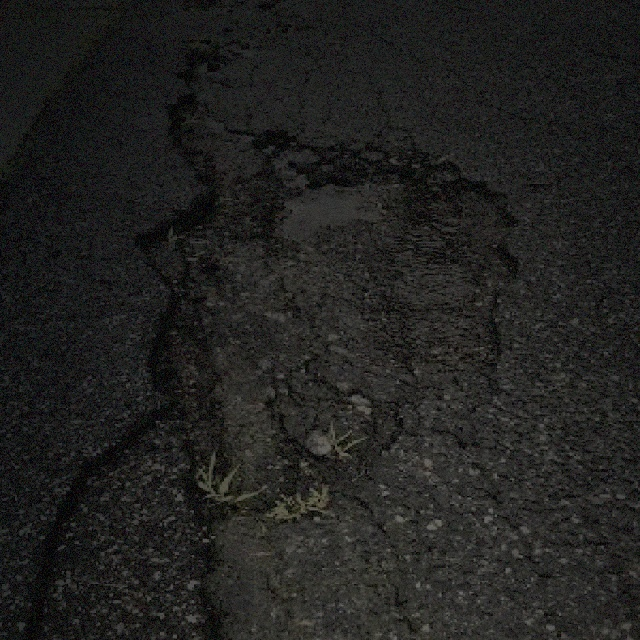pothole: (126, 46, 525, 524)
